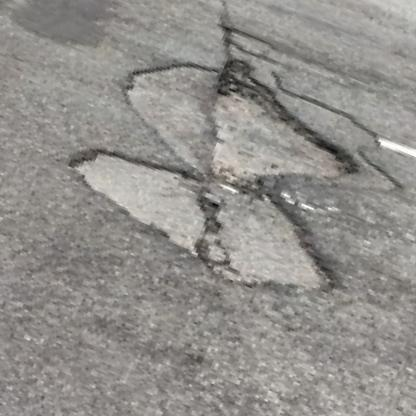pothole: (47, 112, 374, 329), (105, 19, 383, 220)
